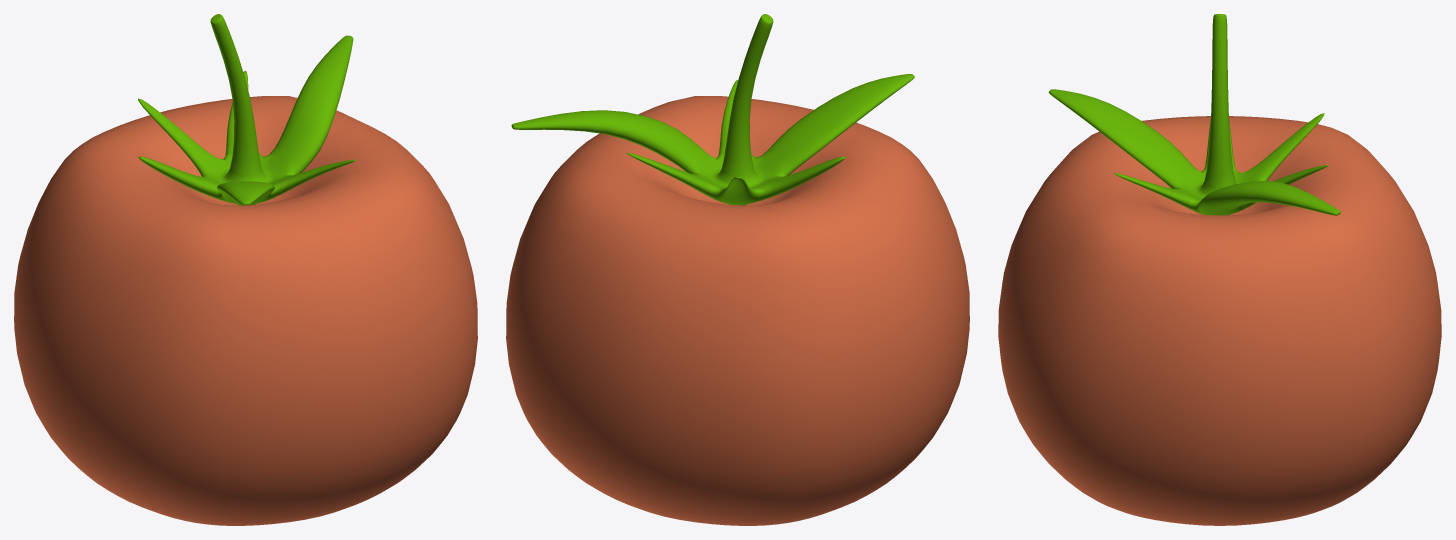
File: tom.fbx
3 views of the same model, side by side, from view 1: azimuth 30°, elevation 25°; view 2: azimuth 150°, elevation 25°; view 3: azimuth 270°, elevation 25° (orthographic). The views are drawn at different scales.
Parts seen in each view (by area): view 1: Cube, Cylinder; view 2: Cube, Cylinder; view 3: Cube, Cylinder.
Boxes of the visible parts, x1=… form: Cube: x1=14, y1=96, x2=477, y2=525; Cylinder: x1=138, y1=14, x2=355, y2=205; Cube: x1=506, y1=96, x2=969, y2=525; Cylinder: x1=511, y1=14, x2=914, y2=205; Cube: x1=998, y1=116, x2=1441, y2=525; Cylinder: x1=1048, y1=14, x2=1340, y2=215.
Bounding box in the file's own units: 12300 × 14084 × 12300.
